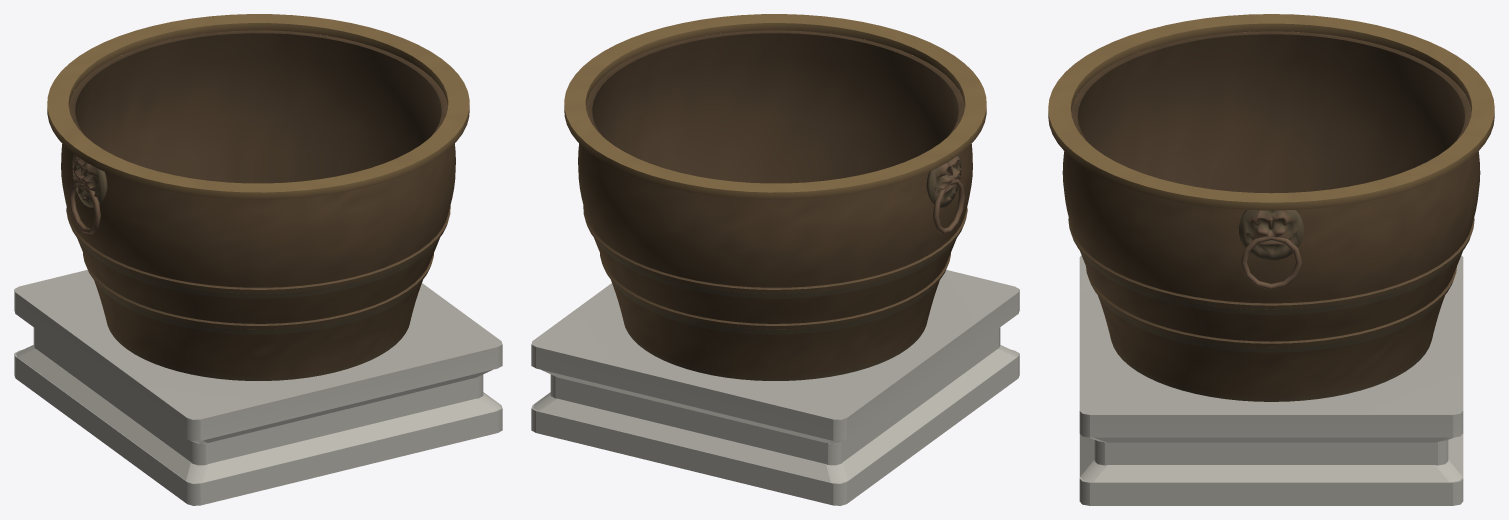
Rendered from tonggang-v4.glb.
3 views of the same model, side by side, from view 1: azimuth 30°, elevation 25°; view 2: azimuth 150°, elevation 25°; view 3: azimuth 270°, elevation 25° (orthographic). The views are drawn at different scales.
Visible parts, largest first — view 1: tonggang, xumizuo, kouyan, pushou; view 2: tonggang, xumizuo, kouyan, pushou; view 3: tonggang, xumizuo, kouyan, pushou.
Boxes of the visible parts, <box> form: tonggang: <box>61,30,455,380</box>; xumizuo: <box>14,270,502,505</box>; kouyan: <box>47,14,469,199</box>; pushou: <box>69,154,107,234</box>; tonggang: <box>578,30,972,380</box>; xumizuo: <box>531,270,1019,505</box>; kouyan: <box>564,14,986,199</box>; pushou: <box>926,154,964,234</box>; tonggang: <box>1062,31,1480,401</box>; xumizuo: <box>1079,255,1463,505</box>; kouyan: <box>1048,14,1494,210</box>; pushou: <box>1239,210,1303,289</box>.
Size of the model in its own units: 1.78 by 1.39 by 1.78.
